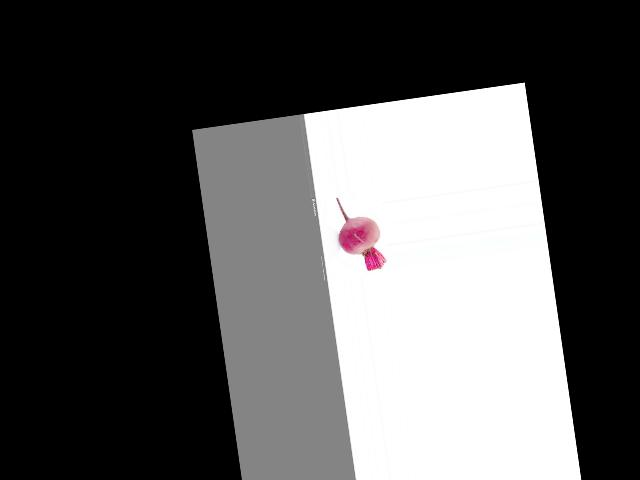beet: (332, 192, 386, 274)
